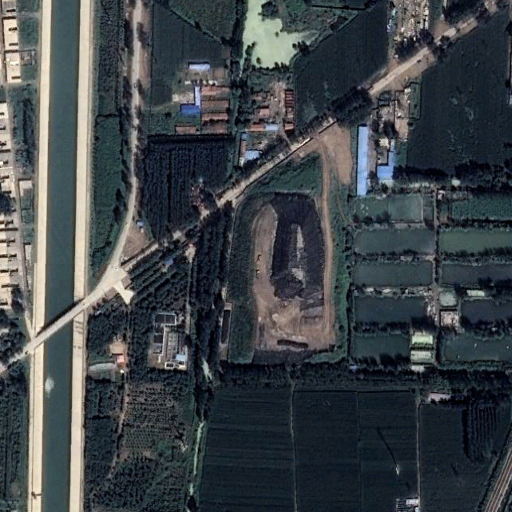lf: (267, 188, 331, 327)
